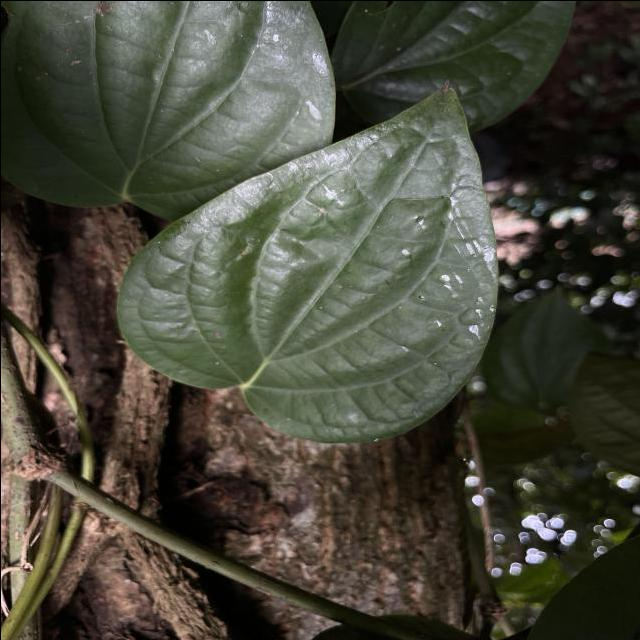Piper nigrum: (111, 78, 502, 448)
